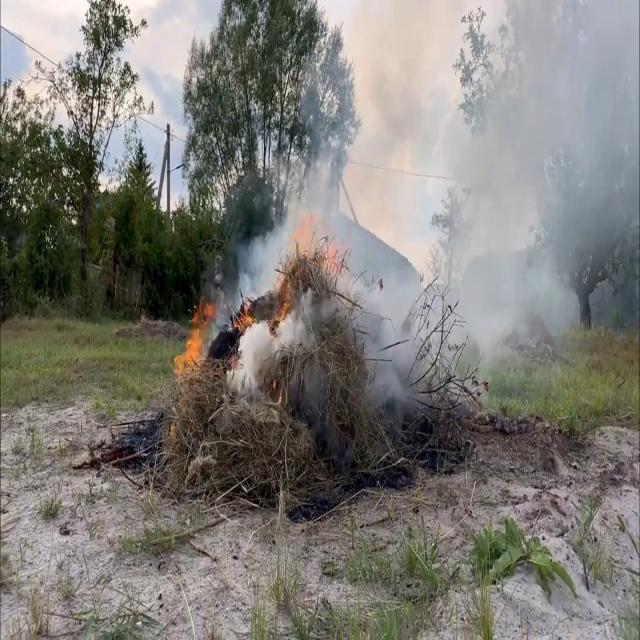Fire: (172, 295, 222, 385)
Smoke: (234, 0, 638, 398)
